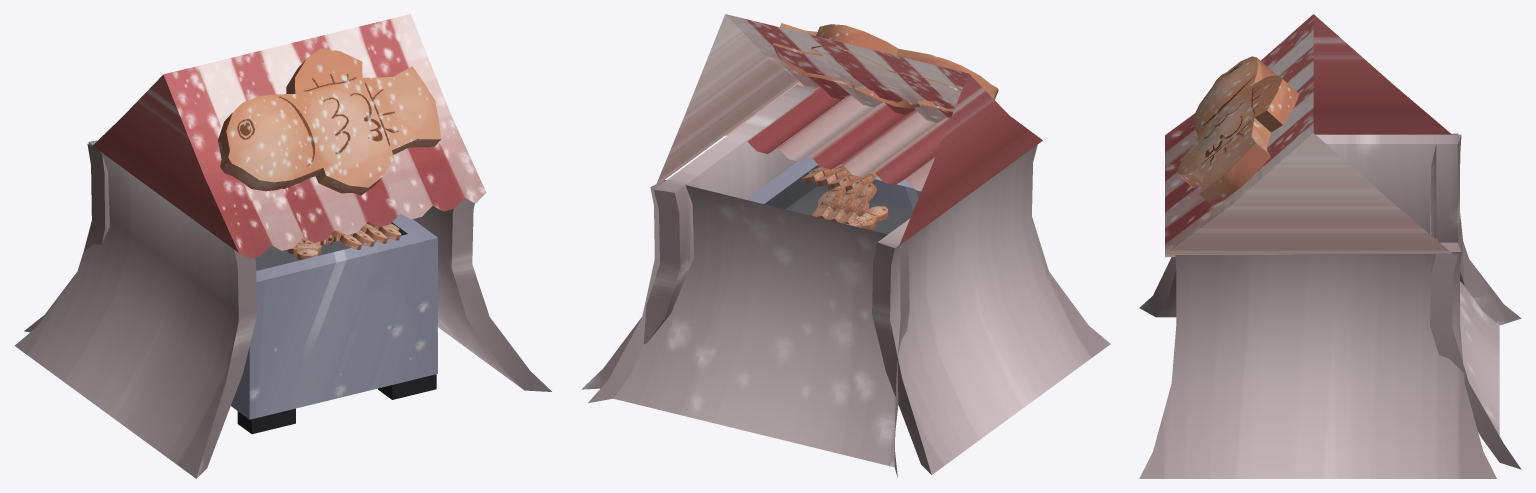
Rendered from 붕어빵.FBX.
3 renders of one model, left to right at view 1: azimuth 30°, elevation 25°; view 2: azimuth 150°, elevation 25°; view 3: azimuth 270°, elevation 25°, orthographic.
Parts seen in each view (by area): view 1: Box002, Box005, Box003, Box006, Box018, Box001, Box015, Box004; view 2: Box001, Box002, Box005, Box018, Box003, Box006, Box011, Box013, Box012, Box014; view 3: Box018, Box005, Box006, Box002, Box001.
Part boxes in pixels (x1,y1,x2,y2): Box002: (14, 140, 256, 478); Box005: (92, 14, 486, 258); Box003: (231, 214, 437, 419); Box006: (218, 48, 441, 195); Box018: (413, 198, 551, 391); Box001: (24, 144, 109, 332); Box015: (237, 408, 295, 434); Box004: (378, 374, 436, 399); Box001: (588, 180, 909, 477); Box002: (872, 144, 1110, 474); Box005: (655, 14, 1042, 245); Box018: (581, 84, 814, 389); Box003: (746, 156, 920, 234); Box006: (773, 23, 998, 111); Box011: (812, 175, 851, 218); Box013: (838, 181, 876, 224); Box012: (826, 178, 863, 221); Box014: (840, 206, 888, 229); Box018: (1139, 242, 1496, 478); Box005: (1165, 14, 1452, 257); Box006: (1176, 56, 1299, 205); Box002: (1139, 134, 1464, 317); Box001: (1430, 133, 1521, 469).
Bounding box in the file's own units: 192 × 169 × 181.
1 material, 1 textured.
